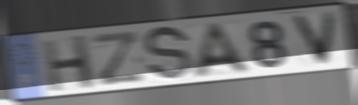8: (248, 19, 289, 70)
A: (191, 20, 254, 80)
H: (40, 33, 97, 94)
S: (143, 24, 195, 84)
V: (288, 10, 339, 68)
Z: (90, 29, 147, 89)
